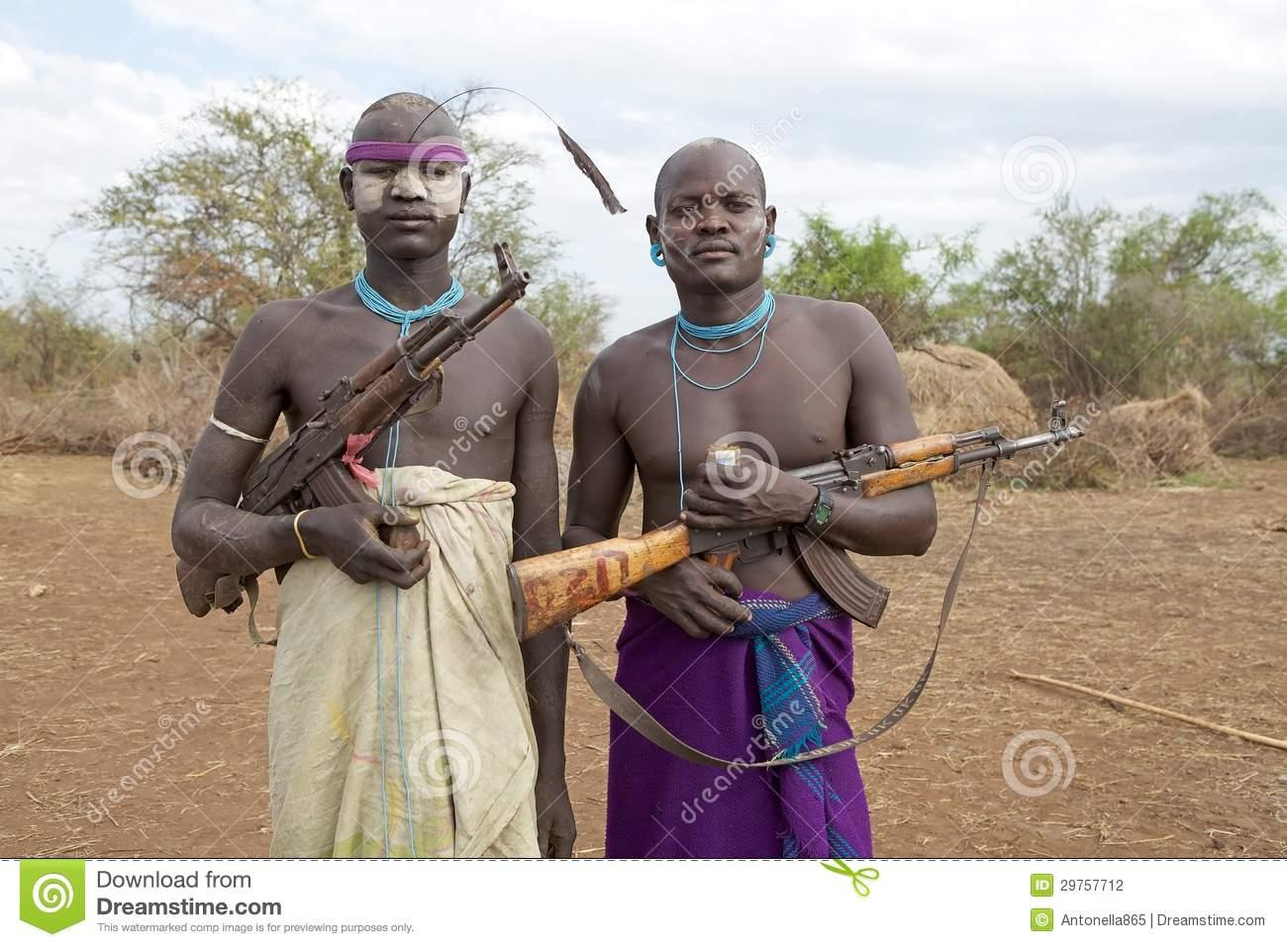larga: (506, 398, 1086, 645), (175, 239, 533, 618)
